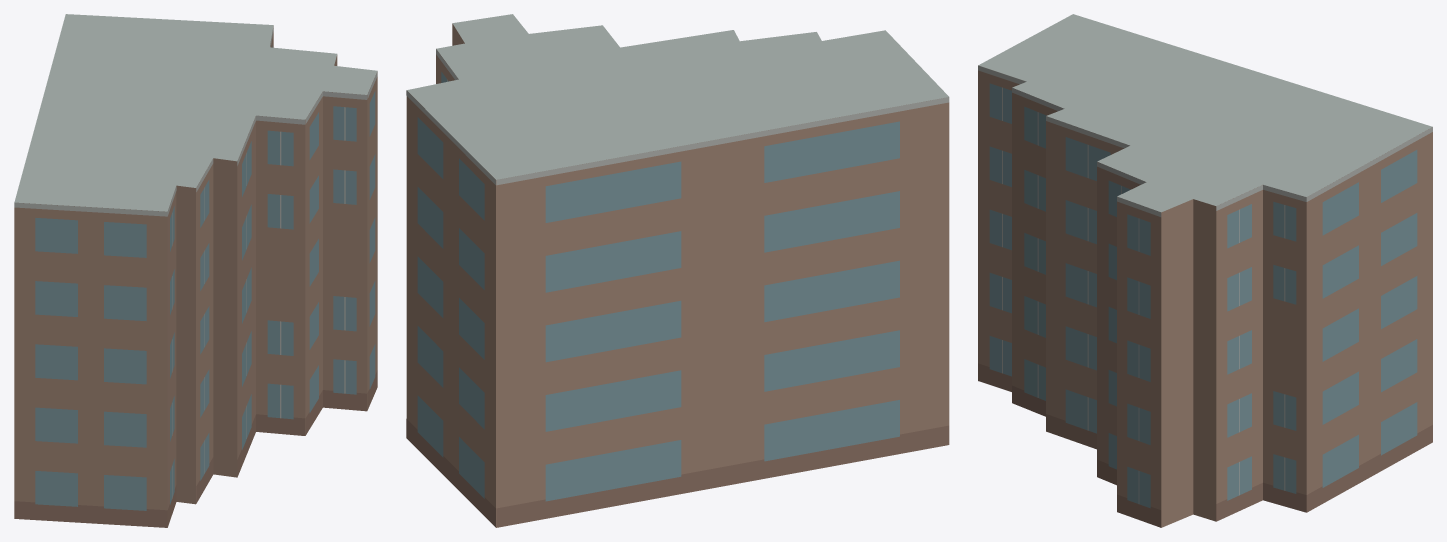
The model's file is survey-upis-33003409.glb.
The picture shows the model from 3 angles, left to right: view 1: azimuth 30°, elevation 25°; view 2: azimuth 150°, elevation 25°; view 3: azimuth 270°, elevation 25°; orthographic projection. The views are drawn at different scales.
Visible parts, largest first — view 1: survey-upis-33003409.tmp; view 2: survey-upis-33003409.tmp; view 3: survey-upis-33003409.tmp.
Boxes of the visible parts, bbox=[...] form: survey-upis-33003409.tmp: bbox=[14, 14, 377, 527]; survey-upis-33003409.tmp: bbox=[406, 14, 949, 527]; survey-upis-33003409.tmp: bbox=[978, 14, 1432, 527].
Size of the model in its own units: 20.91 by 15.5 by 20.26.
